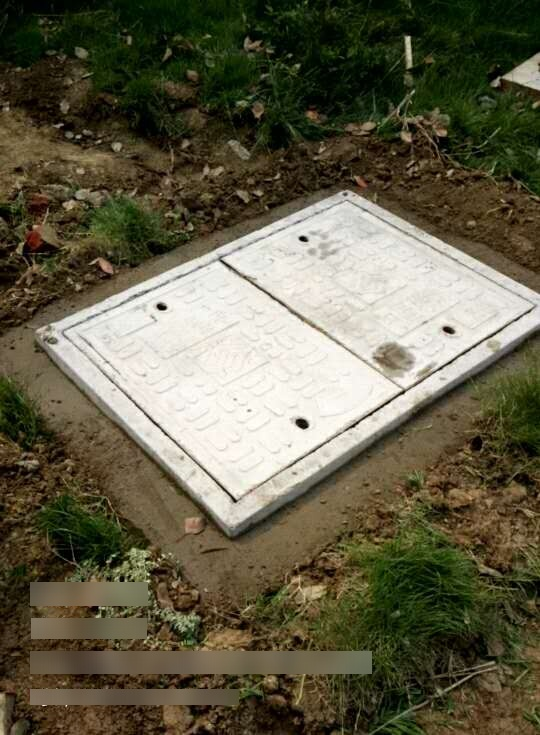good: (32, 190, 540, 540)
